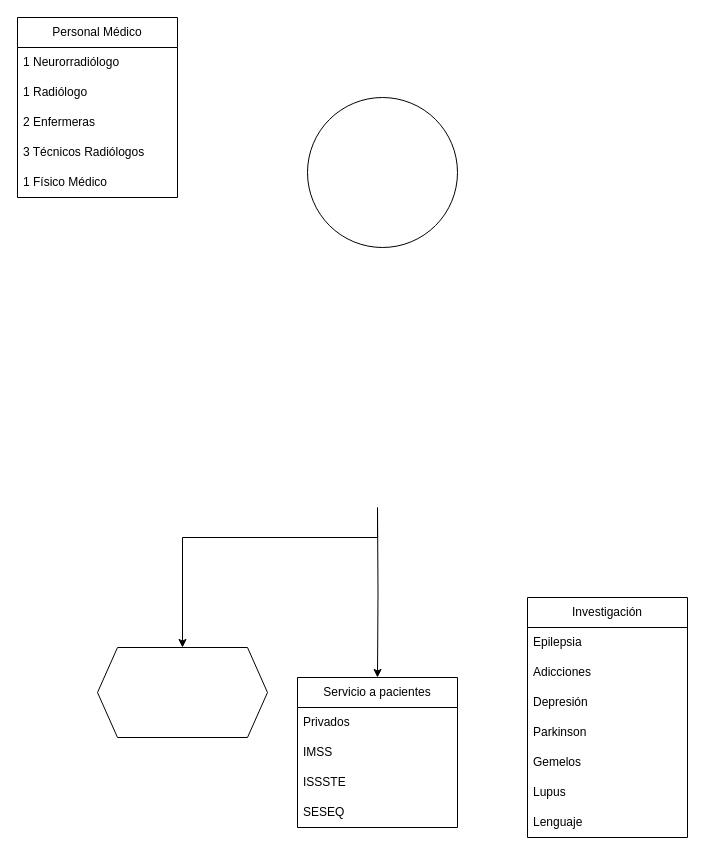
Some shapes in this 705 by 855 pixel diagram are drawn without their labels. The centre of each missing label's shape, as x and y in pixels:
Diagnóstico y seguimiento de bebés con factores de riesgo perinatal: [182,692]
Unidad de Resonancia Magnética: [382,172]
